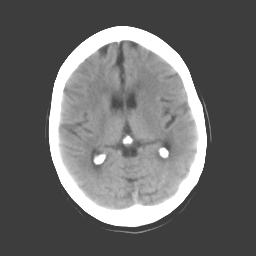ischemic: (137, 83, 163, 129)
